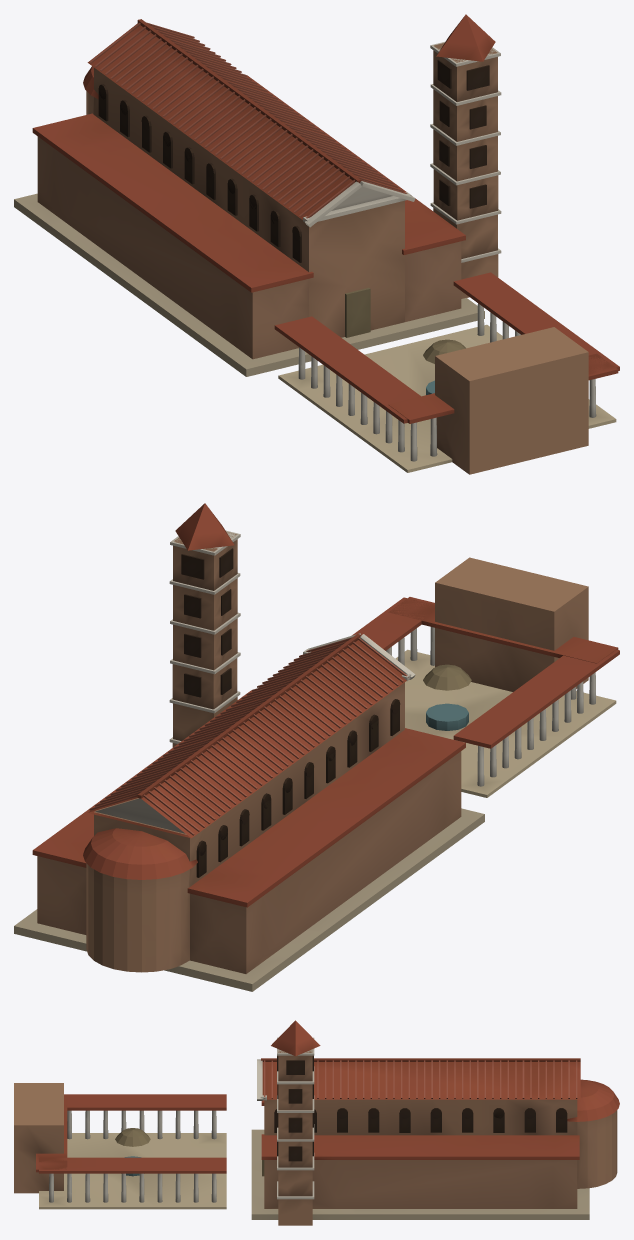
File: san-clemente.glb
3 renders of one model, top to bottom at view 1: azimuth 30°, elevation 25°; view 2: azimuth 150°, elevation 25°; view 3: azimuth 270°, elevation 25°, orthographic. The views are drawn at different scales.
Visible parts, largest first — view 1: p2_campanile, p1_atrium, p0_base; view 2: p2_campanile, p1_atrium, p0_base; view 3: p1_atrium, p2_campanile, p0_base.
Part boxes in pixels (x1,y1,x2,y2): p2_campanile: (32, 14, 619, 423); p1_atrium: (37, 67, 596, 474); p0_base: (14, 193, 616, 472); p2_campanile: (32, 503, 619, 907); p1_atrium: (37, 557, 595, 973); p0_base: (14, 649, 616, 991); p1_atrium: (14, 1083, 617, 1208); p2_campanile: (36, 1020, 619, 1225); p0_base: (39, 1129, 589, 1219).
Bounding box in the file's own units: 37.5 × 35.9 × 96.84.
